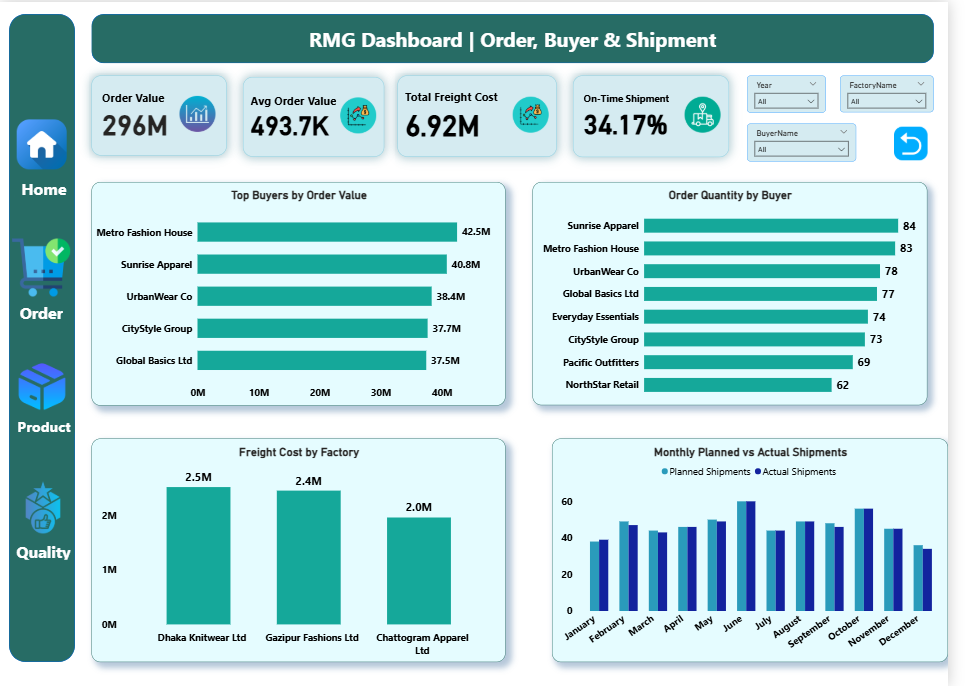

Layout of this report page (visuals, bound fields, positions):
{"tool":"powerbi","page":{"name":"Order","canvas":[1580,1140],"ordinal":1},"visuals":[{"type":"cardVisual","fields":{"Data":["Measure.Total Order Value"]},"box":[153.3,123.3,225,133.3],"z":0},{"type":"cardVisual","fields":{"Data":["Measure.On-Time Shipment %"]},"box":[955.7,122.9,260,135.7],"z":1000},{"type":"cardVisual","fields":{"Data":["Measure.Average Order Value"]},"box":[405,125,235,132.5],"z":2000},{"type":"cardVisual","fields":{"Data":["Measure.Total Freight Cost"]},"box":[662.5,122.5,265,135],"z":3000},{"type":"shape","box":[152,20,1404,82],"z":4000},{"type":"shape","box":[16,20,110,1080],"z":5000},{"type":"clusteredBarChart","title":"Order Quantity by Buyer","fields":{"Category":["dim_buyer.BuyerName"],"Y":["Measure.Total Orders"]},"box":[888,300,658,372],"z":6000},{"type":"clusteredColumnChart","title":"Freight Cost by Factory","fields":{"Category":["dim_factory.FactoryName"],"Y":["Sum(fact_shipment.FreightCostUSD)"]},"box":[152.9,727.1,690,372.9],"z":7000},{"type":"clusteredColumnChart","title":"Monthly Planned vs Actual Shipments","fields":{"Category":["dim_date.MonthName"],"Y":["Measure.Planned Shipments","Measure.Actual Shipments"]},"box":[920,727.5,660,372.5],"z":8000},{"type":"slicer","fields":{"Values":["dim_date.Year"]},"box":[1244,123,131,62],"z":9000},{"type":"slicer","fields":{"Values":["dim_factory.FactoryName"]},"box":[1400,123,156,61],"z":10000},{"type":"slicer","fields":{"Values":["dim_buyer.BuyerName"]},"box":[1244,202,182,63],"z":11000},{"type":"image","box":[1480,202,76,66],"z":12000},{"type":"clusteredBarChart","title":"Top Buyers by Order Value","fields":{"Category":["dim_buyer.BuyerName"],"Y":["Measure.Total Order Value"]},"box":[152.9,300,690,372.9],"z":13000},{"type":"image","box":[23.3,185,93.3,105],"z":13001},{"type":"shape","box":[21.4,290,101.4,38.6],"z":13002},{"type":"shape","box":[18.6,498.6,102.9,40],"z":13003},{"type":"shape","box":[22.3,893.8,100,37.7],"z":13004},{"type":"shape","box":[22,688,102,38],"z":13005},{"type":"image","box":[15.7,388.6,107.1,110],"z":13006},{"type":"image","box":[20,591.4,100,97.1],"z":13007},{"type":"image","box":[20,790,102.9,104.3],"z":13008}]}

Visuals, with their boxes in screenshot pixels (x1, y1, x2, y2), scaled from the page's 1580x1140 canvas onto the 965x686 screenshot:
cardVisual - Measure.Total Order Value: <bbox>94, 74, 231, 154</bbox>
cardVisual - Measure.On-Time Shipment %: <bbox>584, 74, 743, 156</bbox>
cardVisual - Measure.Average Order Value: <bbox>247, 75, 391, 155</bbox>
cardVisual - Measure.Total Freight Cost: <bbox>405, 74, 566, 155</bbox>
shape: <bbox>93, 12, 950, 61</bbox>
shape: <bbox>10, 12, 77, 662</bbox>
"Order Quantity by Buyer" clusteredBarChart: <bbox>542, 181, 944, 404</bbox>
"Freight Cost by Factory" clusteredColumnChart: <bbox>93, 438, 515, 662</bbox>
"Monthly Planned vs Actual Shipments" clusteredColumnChart: <bbox>562, 438, 964, 662</bbox>
slicer - dim_date.Year: <bbox>760, 74, 840, 111</bbox>
slicer - dim_factory.FactoryName: <bbox>855, 74, 950, 111</bbox>
slicer - dim_buyer.BuyerName: <bbox>760, 122, 871, 159</bbox>
image: <bbox>904, 122, 950, 161</bbox>
"Top Buyers by Order Value" clusteredBarChart: <bbox>93, 181, 515, 405</bbox>
image: <bbox>14, 111, 71, 175</bbox>
shape: <bbox>13, 175, 75, 198</bbox>
shape: <bbox>11, 300, 74, 324</bbox>
shape: <bbox>14, 538, 75, 561</bbox>
shape: <bbox>13, 414, 76, 437</bbox>
image: <bbox>10, 234, 75, 300</bbox>
image: <bbox>12, 356, 73, 414</bbox>
image: <bbox>12, 475, 75, 538</bbox>
